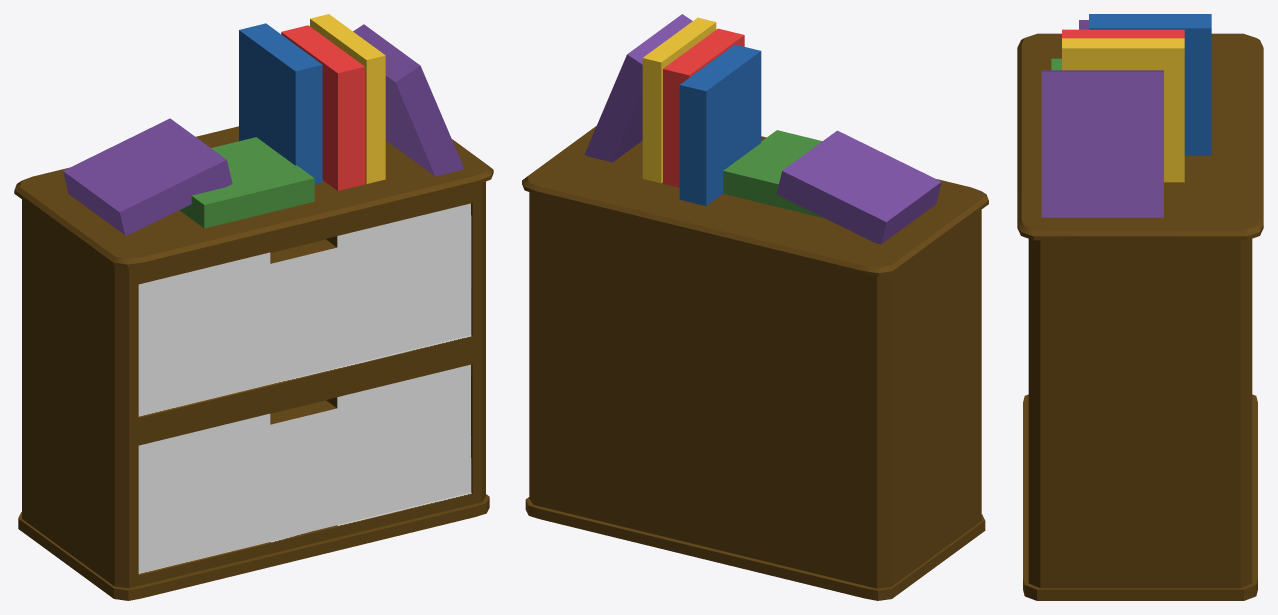
Rendered from geo_SmallBookShelf.fbx.
3 renders of one model, left to right at view 1: azimuth 30°, elevation 25°; view 2: azimuth 150°, elevation 25°; view 3: azimuth 270°, elevation 25°, orthographic. The views are drawn at different scales.
Parts seen in each view (by area): view 1: pCube65, pCube140, pCube142, pCube141, pCube143, pCube144, pCube145; view 2: pCube65, pCube140, pCube142, pCube144, pCube141, pCube145, pCube143; view 3: pCube65, pCube144, pCube145, pCube142, pCube143.
Boxes of the visible parts, x1,y1,x2,y2 form: pCube65: (14,126,493,600); pCube140: (63,118,232,235); pCube142: (239,23,322,184); pCube141: (179,137,314,228); pCube143: (281,25,364,190); pCube144: (353,24,463,176); pCube145: (310,14,385,183); pCube65: (522,126,988,600); pCube140: (776,130,941,244); pCube142: (679,44,761,205); pCube144: (584,14,692,162); pCube141: (723,130,824,218); pCube145: (642,17,716,183); pCube143: (663,28,744,187); pCube65: (1017,33,1263,600); pCube144: (1041,70,1163,217); pCube145: (1062,38,1184,182); pCube142: (1089,14,1211,155); pCube143: (1062,29,1184,38).
Size of the model in its own units: 103 by 121 by 53.59.
1 material, 1 textured.
